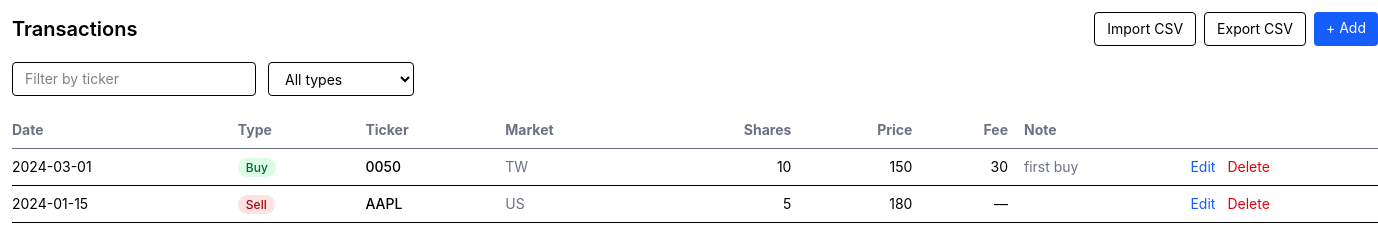
it: TransactionList › shows empty state when no transactions match filter
The width and height of the screenshot is (1378, 240).
Expected: the text "0050" is shown, [365, 148, 505, 186]
Type "TSLA" into the field labelled "Filter by ticker" at (134, 79), box [12, 62, 256, 96]
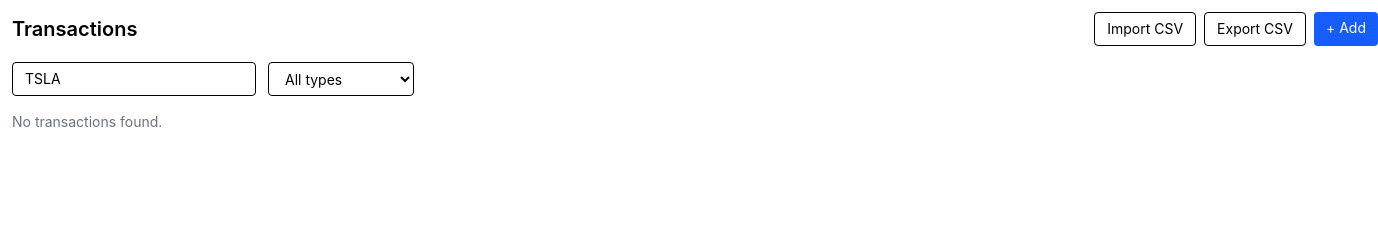
Result: the text "No transactions found." is shown at [12, 113, 162, 130]
